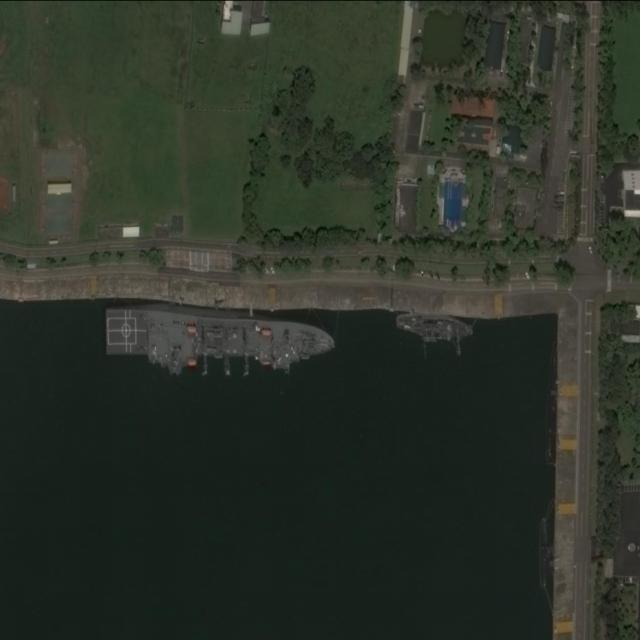Commander: (96, 308, 335, 376)
Other Warship: (392, 313, 475, 343)
